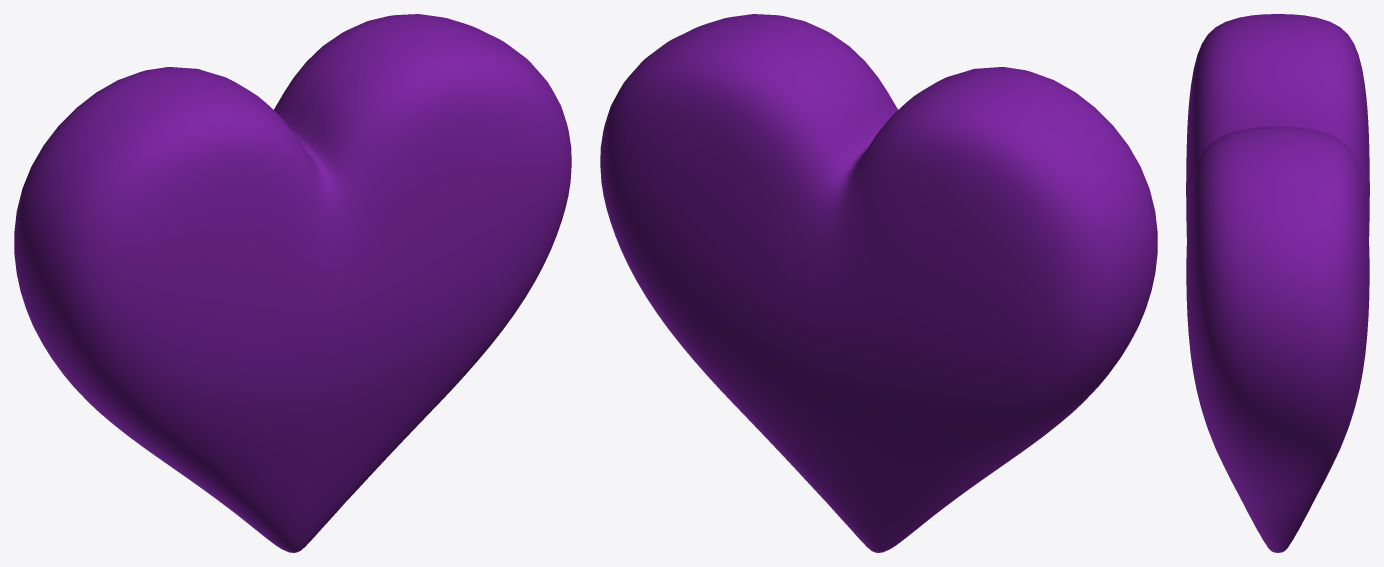
File: purple_heart.glb
3 renders of one model, left to right at view 1: azimuth 30°, elevation 25°; view 2: azimuth 150°, elevation 25°; view 3: azimuth 270°, elevation 25°, orthographic. The views are drawn at different scales.
Visible parts, largest first — view 1: hfdjkslfjkds.023; view 2: hfdjkslfjkds.023; view 3: hfdjkslfjkds.023.
Part boxes in pixels (x1,y1,x2,y2): hfdjkslfjkds.023: [14, 14, 571, 552]; hfdjkslfjkds.023: [600, 14, 1157, 552]; hfdjkslfjkds.023: [1186, 14, 1369, 552].
Size of the model in its own units: 1.86 by 1.68 by 0.5956.
Materials: 1 (1 with a texture image).
